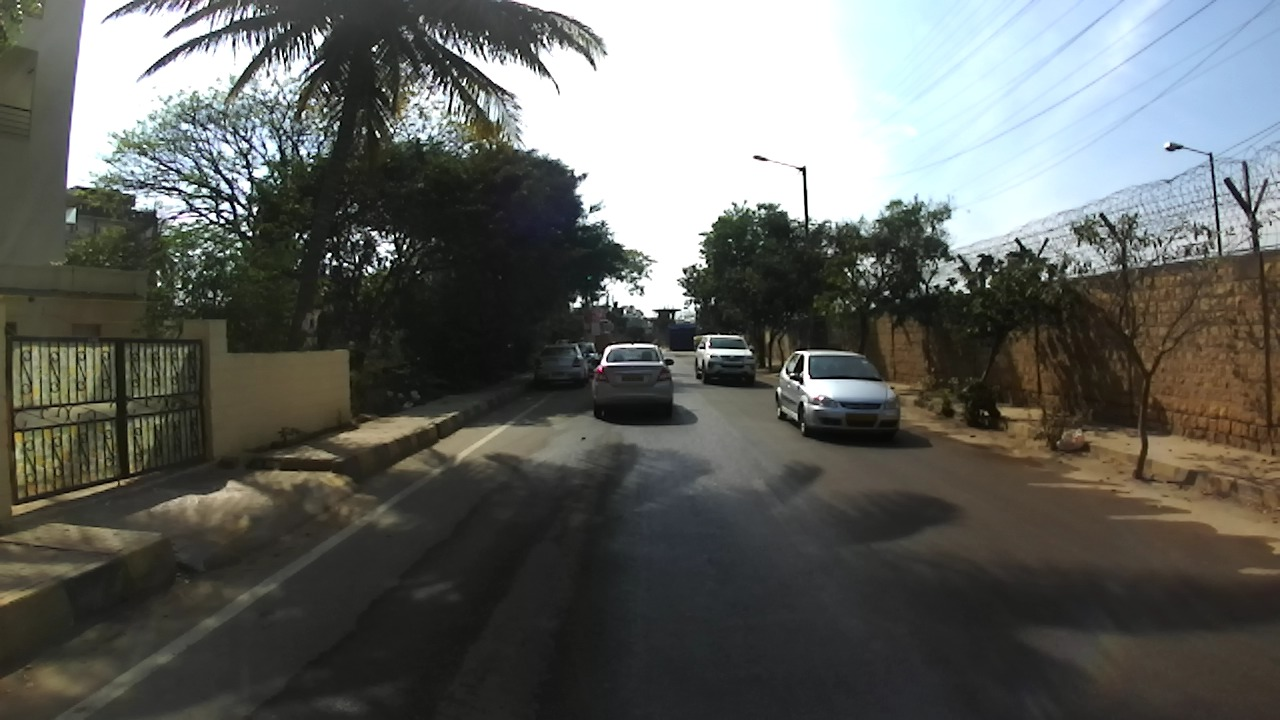autorickshaw: (693, 334, 713, 352)
car: (776, 350, 901, 442), (592, 343, 675, 420), (695, 334, 756, 386), (534, 343, 590, 391), (573, 342, 602, 377)
truck: (595, 333, 613, 356)
vehicle fallback: (553, 340, 577, 344)
